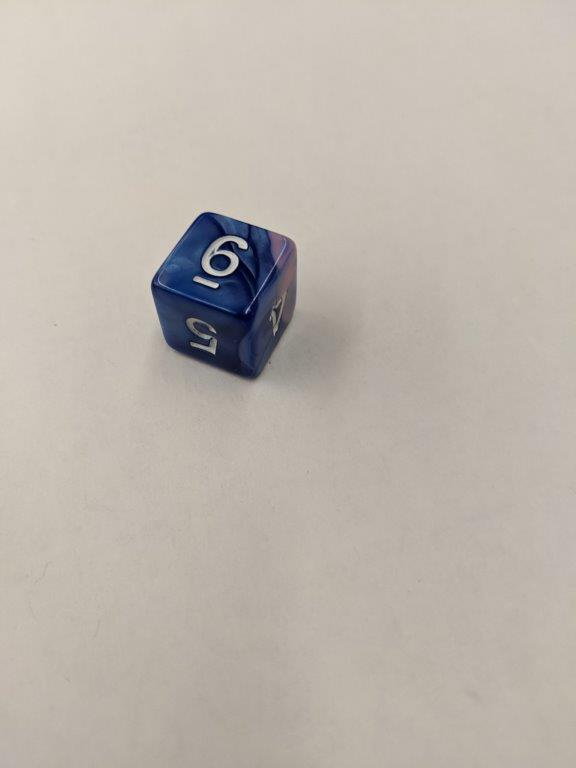d6-6: (152, 211, 296, 381)
